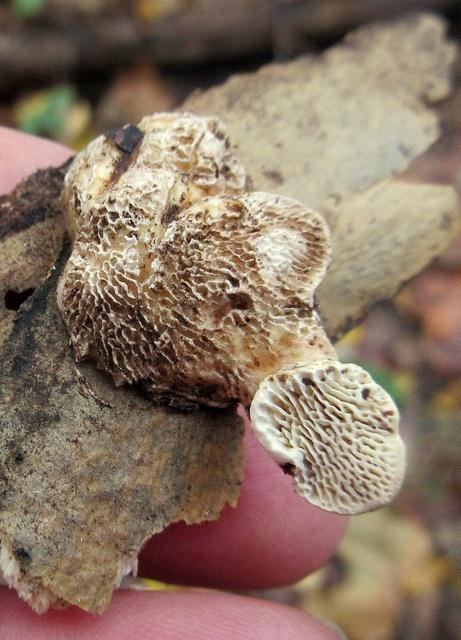poisonous_mushroom: (53, 109, 408, 516)
